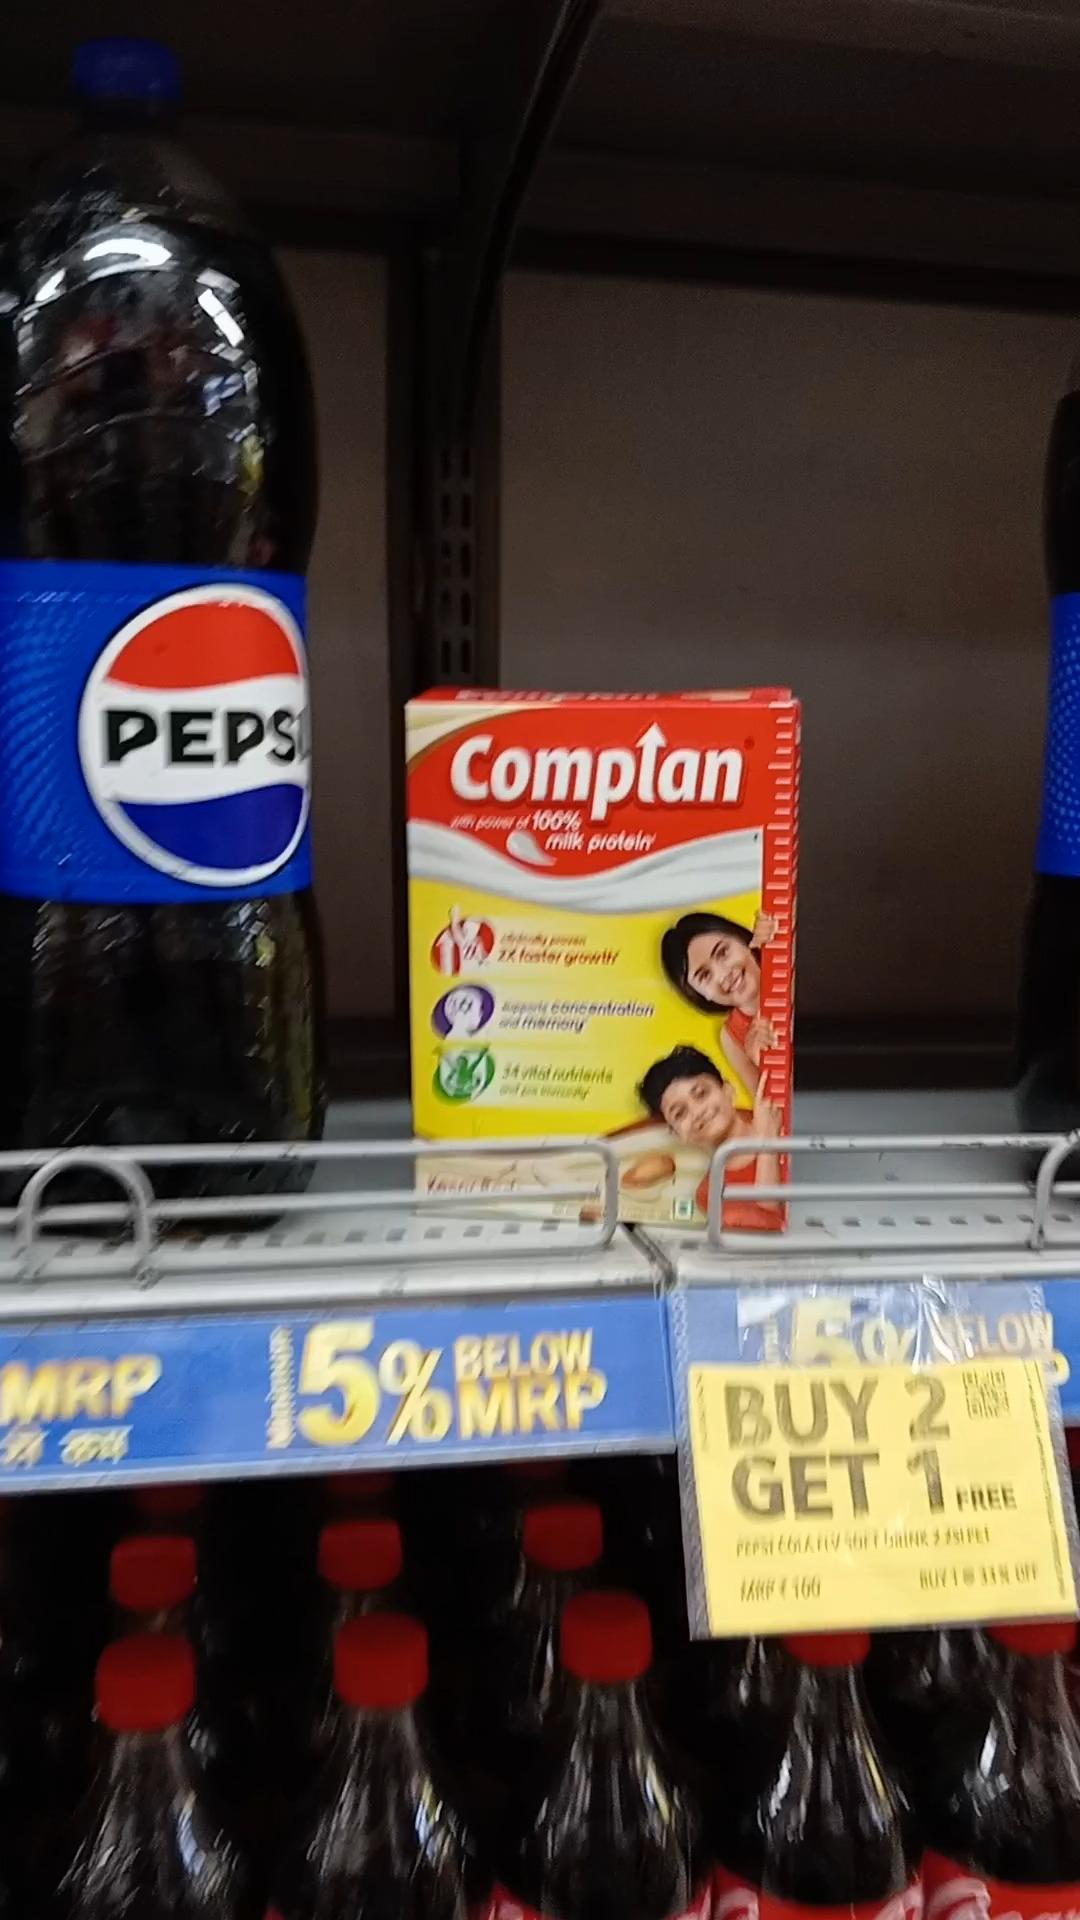COMPLAN_CHOCOLATE_200_GMS_JAR: (415, 700, 779, 1241)
